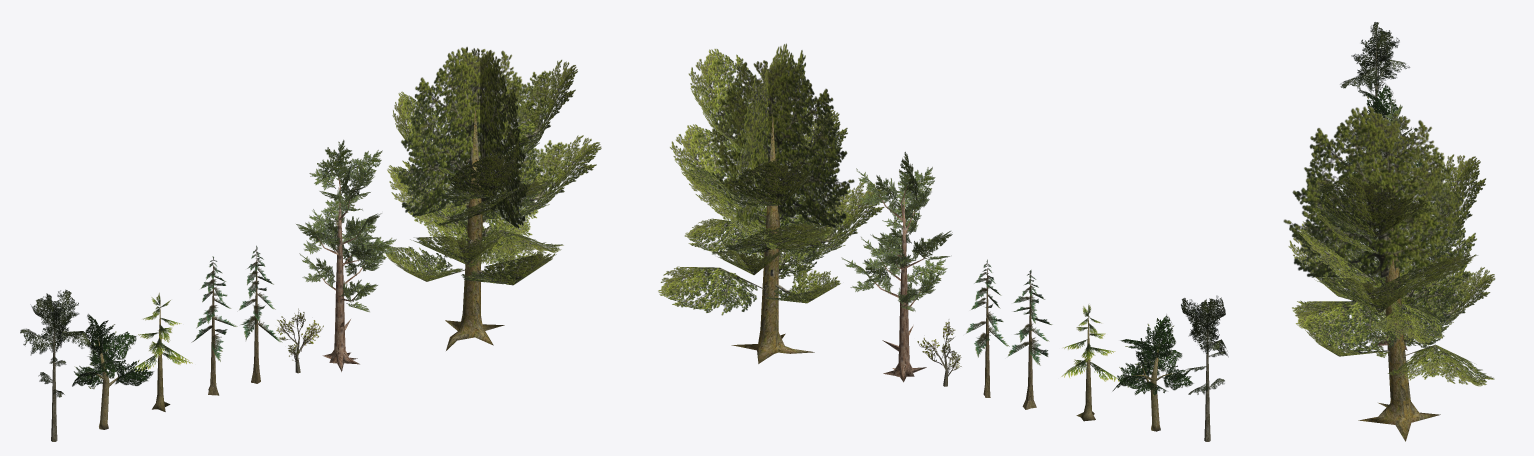
Rendered from trees.glb.
3 renders of one model, left to right at view 1: azimuth 30°, elevation 25°; view 2: azimuth 150°, elevation 25°; view 3: azimuth 270°, elevation 25°, orthographic. The views are drawn at different scales.
Parts seen in each view (by area): view 1: Tree, Tree_1, Tree_6, Tree_7, Tree_5, Tree_4, Tree_3, Tree_2; view 2: Tree, Tree_1, Tree_6, Tree_7, Tree_4, Tree_5, Tree_3, Tree_2; view 3: Tree, Tree_7, Tree_6, Tree_1.
Boxes of the visible parts, left/top/right/bottom form: Tree: left=383, top=47, right=601, bottom=350; Tree_1: left=296, top=139, right=396, bottom=371; Tree_6: left=72, top=314, right=153, bottom=429; Tree_7: left=20, top=289, right=90, bottom=441; Tree_5: left=132, top=293, right=192, bottom=411; Tree_4: left=191, top=256, right=237, bottom=395; Tree_3: left=239, top=245, right=282, bottom=383; Tree_2: left=276, top=308, right=323, bottom=373; Tree: left=658, top=43, right=885, bottom=363; Tree_1: left=841, top=151, right=952, bottom=382; Tree_6: left=1112, top=314, right=1193, bottom=431; Tree_7: left=1181, top=295, right=1228, bottom=441; Tree_4: left=1008, top=270, right=1052, bottom=409; Tree_5: left=1061, top=304, right=1119, bottom=421; Tree_3: left=966, top=259, right=1009, bottom=397; Tree_2: left=917, top=319, right=961, bottom=386; Tree: left=1283, top=105, right=1495, bottom=441; Tree_7: left=1340, top=22, right=1409, bottom=132; Tree_6: left=1334, top=83, right=1426, bottom=193; Tree_1: left=1350, top=102, right=1434, bottom=350.
Size of the model in its own units: 40.59 by 19.89 by 14.08.
14 materials, 14 textured.
